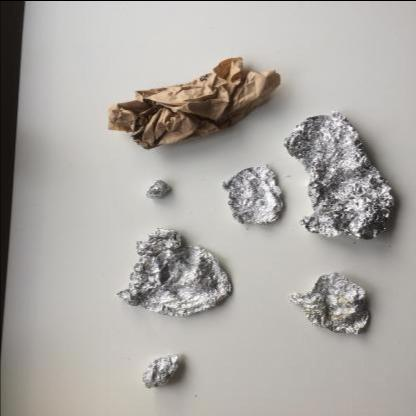Aluminium foil: (284, 110, 394, 240), (115, 226, 231, 316), (288, 272, 368, 334), (221, 162, 282, 224), (142, 352, 180, 388), (145, 178, 169, 198)
Other litter: (108, 55, 280, 148)
